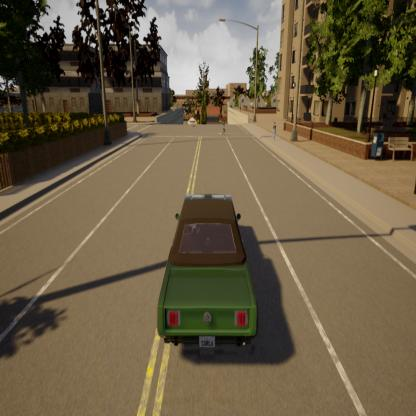Cars: (153, 162, 277, 364)
Pedestrian: (213, 108, 233, 144), (268, 113, 281, 146)
